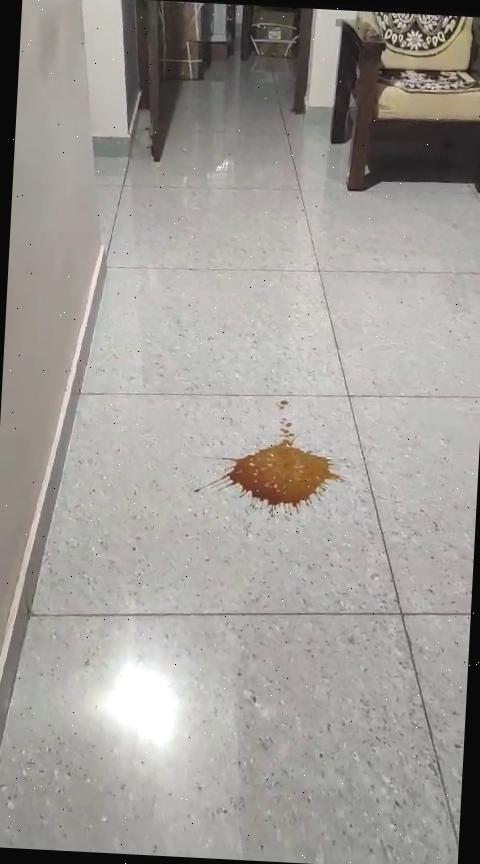dirty_floor: (195, 393, 346, 514)
